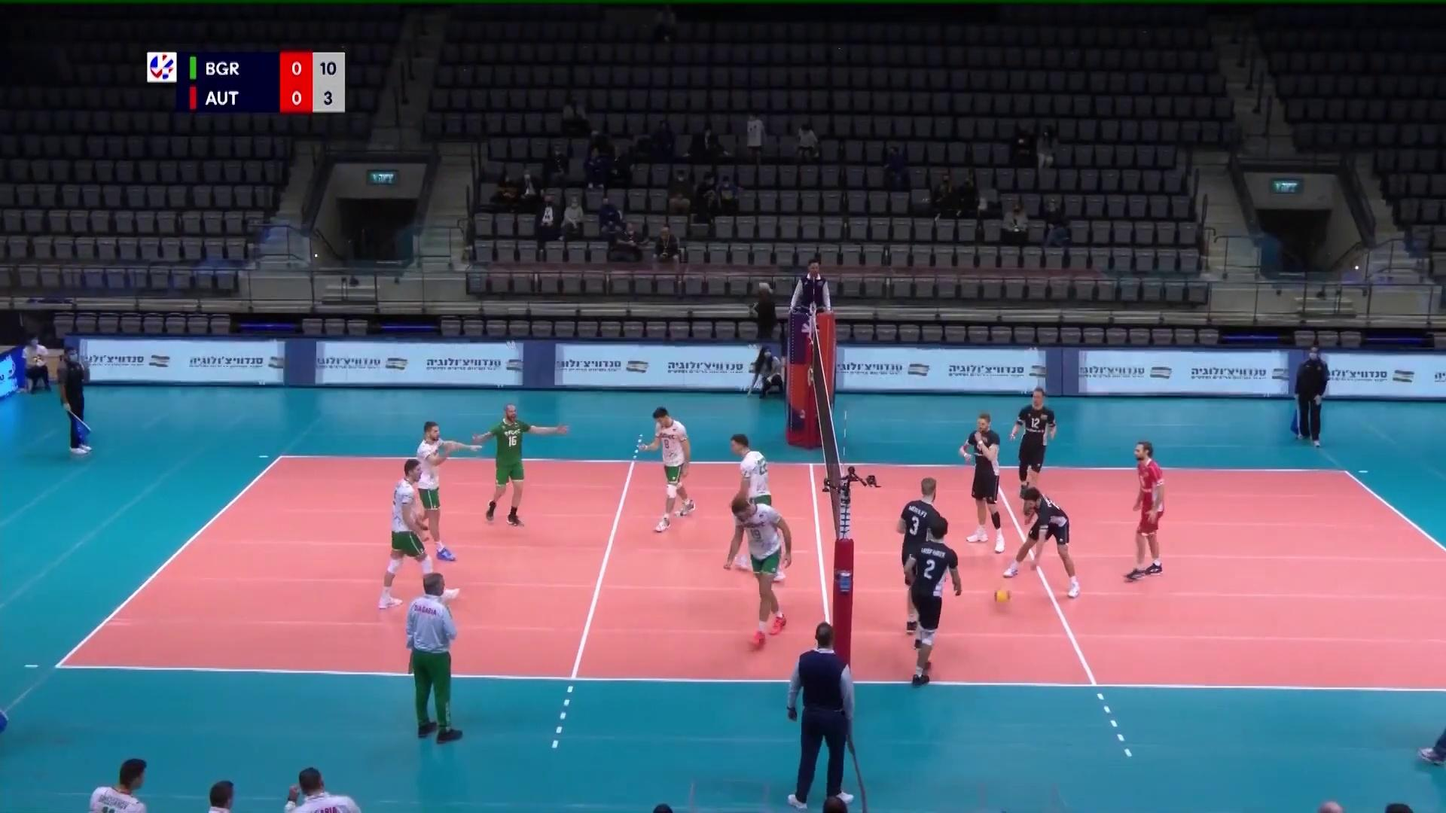ball: (993, 588, 1013, 607)
